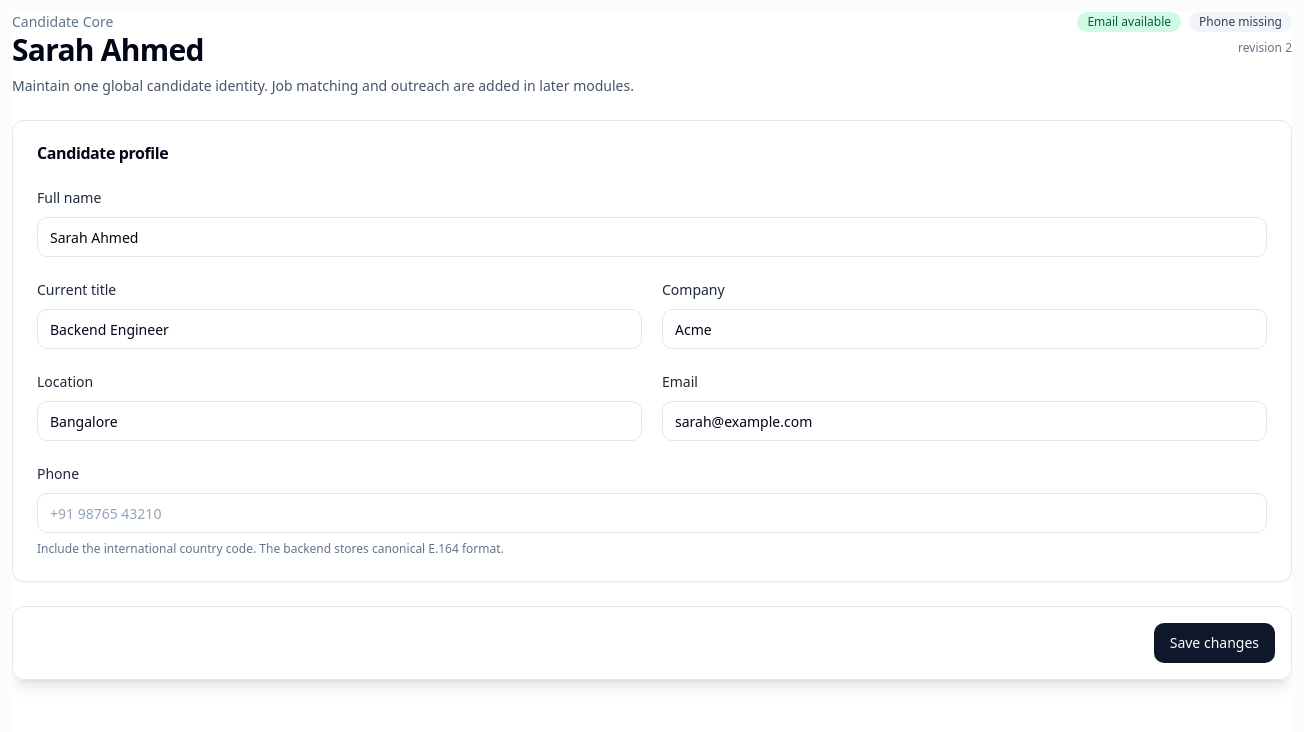
Test case: CandidateEditor › surfaces a stale revision conflict instead of silently overwriting
Click the button "Save changes" at (1214, 643), box top-left (1154, 623), bottom-right (1275, 663)
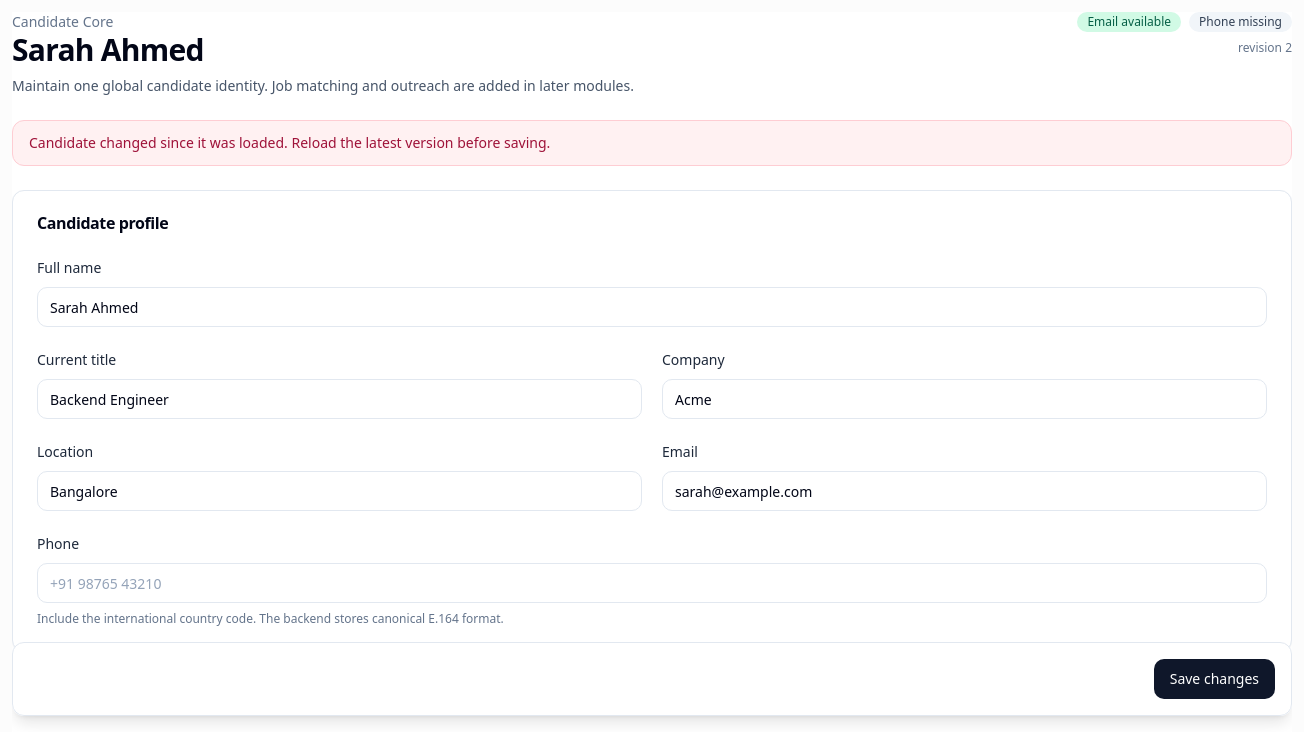
Expected: the message shows "Reload the latest version before saving", top-left (29, 133), bottom-right (550, 152)
